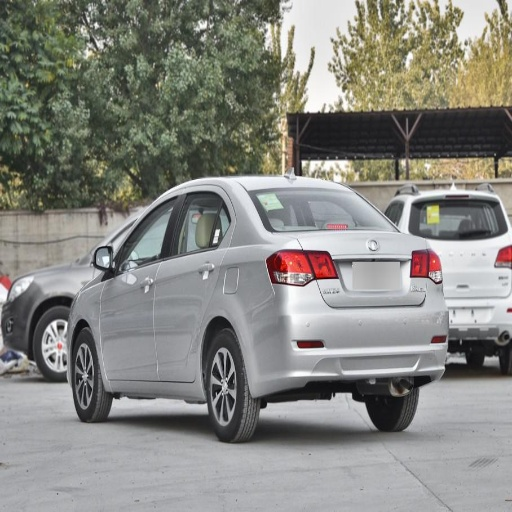back_bumper: (241, 279, 450, 390)
back_glass: (248, 189, 391, 231)
back_left_door: (154, 187, 231, 381)
front_left_door: (100, 191, 180, 380)
